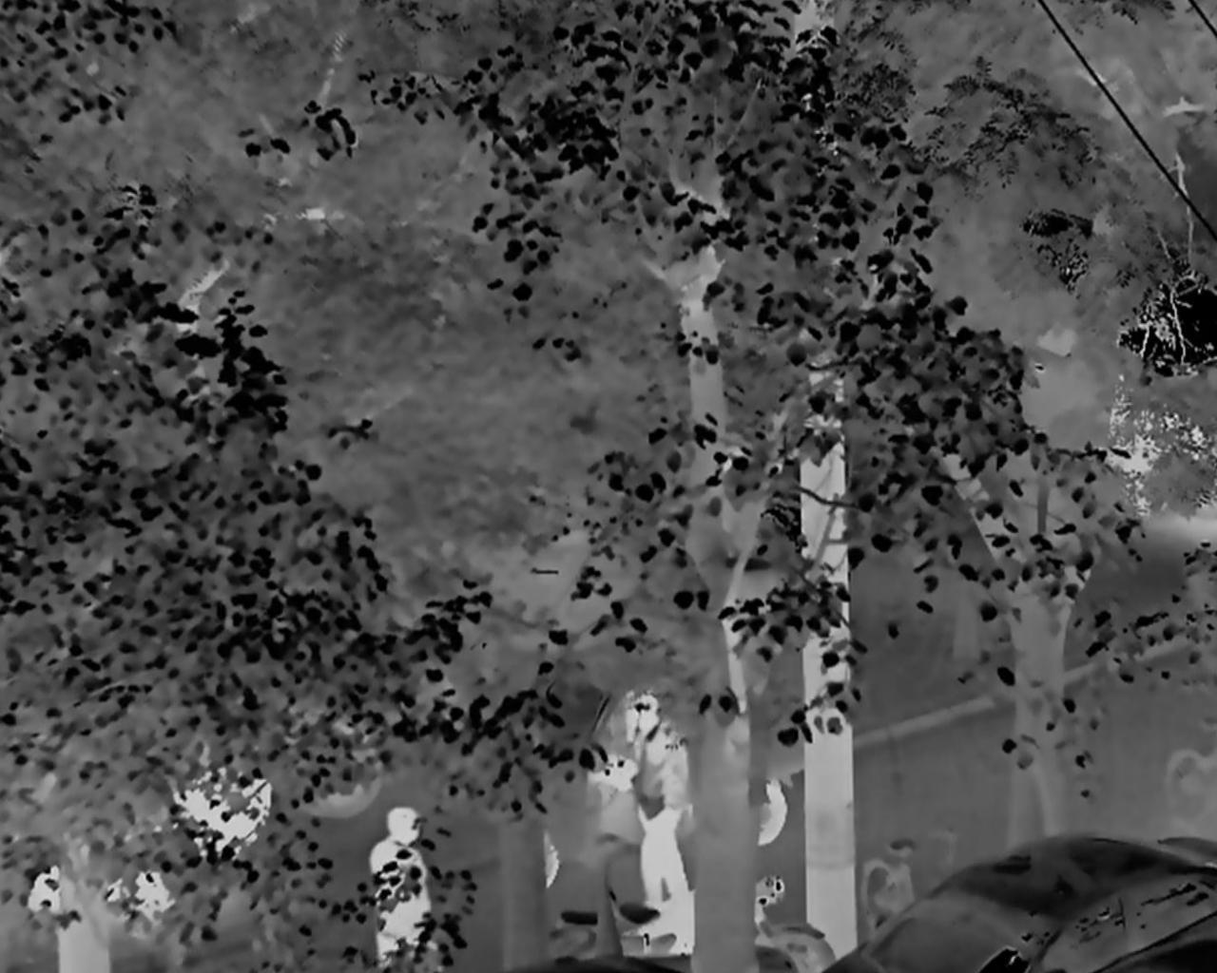person: (628, 693, 694, 936), (369, 806, 435, 973)
